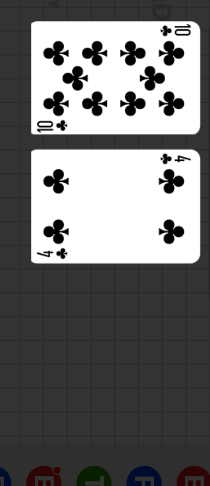10C: (35, 118, 70, 133)
4C: (35, 246, 70, 260)
